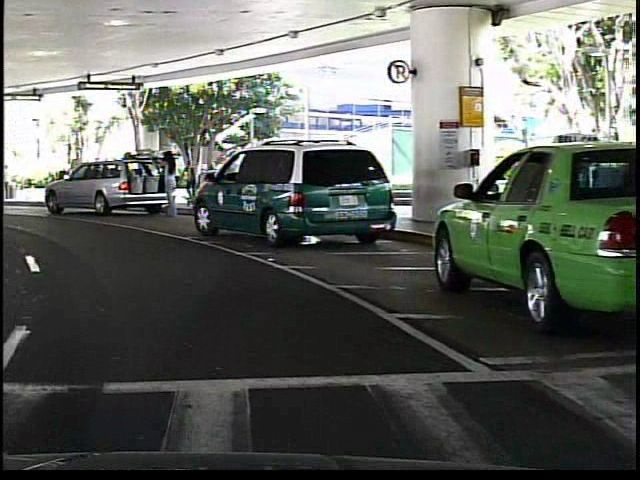person: (158, 143, 177, 224), (61, 148, 86, 201), (176, 155, 196, 213)
